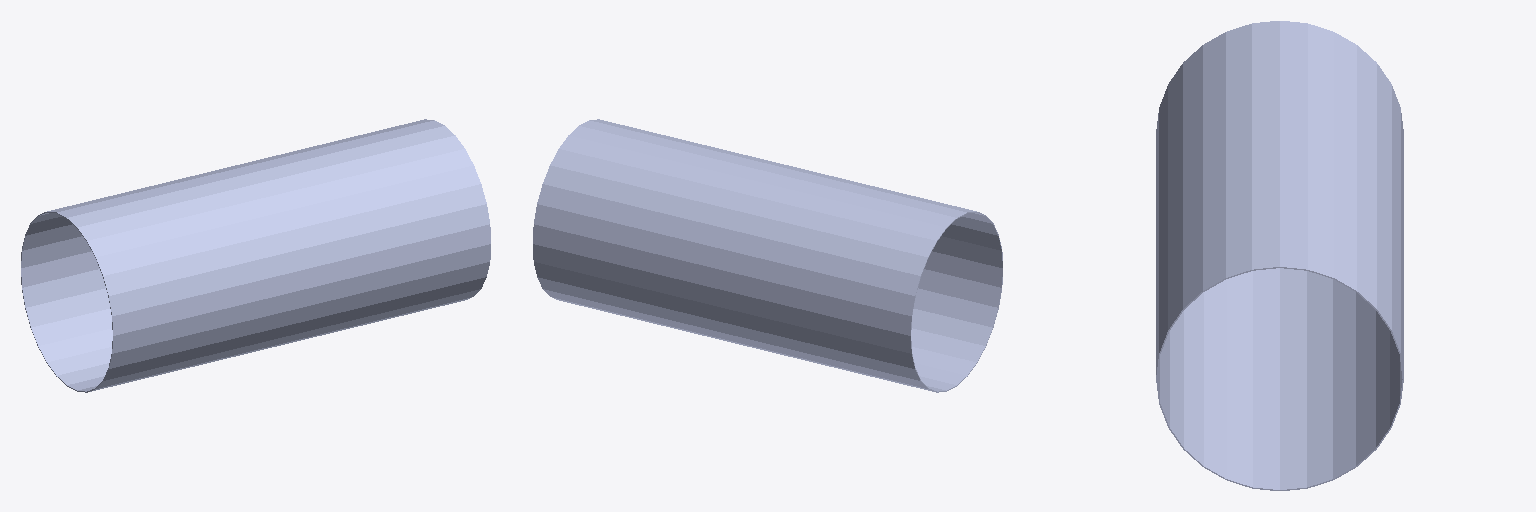
robot.urdf — tubewhole0403:
<?xml version="1.0" encoding="utf-8"?>
<!-- This URDF was automatically created by SolidWorks to URDF Exporter! Originally created by [author] ([email redacted]) 
     Commit Version: 1.6.0-1-g15f4949  Build Version: 1.6.7594.29634
     For more information, please see http://wiki.ros.org/sw_urdf_exporter -->
<robot
  name="tubewhole0403">
  <link
    name="base_link">
    <inertial>
      <origin
        xyz="-2.5 1.3878E-15 0"
        rpy="0 0 0" />
      <mass
        value="398.67" />
      <inertia
        ixx="445.85"
        ixy="5.2145E-27"
        ixz="1.8052E-28"
        iyy="1053.5"
        iyz="7.3336E-29"
        izz="1053.5" />
    </inertial>
    <visual>
      <origin
        xyz="0 0 0"
        rpy="0 0 0" />
      <geometry>
        <mesh
          filename="package://tubewhole0403/meshes/base_link.STL" />
      </geometry>
      <material
        name="">
        <color
          rgba="0.79216 0.81961 0.93333 1" />
      </material>
    </visual>
    <collision>
      <origin
        xyz="0 0 0"
        rpy="0 0 0" />
      <geometry>
        <mesh
          filename="package://tubewhole0403/meshes/base_link.STL" />
      </geometry>
    </collision>
  </link>
</robot>

--- Facts derived from the render (not from the file) ---
The picture shows the robot from 3 angles, left to right: view 1: azimuth 30°, elevation 25°; view 2: azimuth 150°, elevation 25°; view 3: azimuth 270°, elevation 25°; orthographic projection.
Robot: tubewhole0403 — 1 links, 0 joints (none); root link base_link; default pose: all joints at 0.
Links seen in each view (by area): view 1: base_link; view 2: base_link; view 3: base_link.
Link boxes in pixels (x1,y1,x2,y2): base_link: (21,119,490,392); base_link: (533,119,1002,392); base_link: (1156,21,1403,490).
Bounding box of the posed robot: 5 × 2.13 × 2.13 m (x, y, z).
Meshes: 1 distinct files referenced, 1 mesh visuals loaded (1 binary STL).